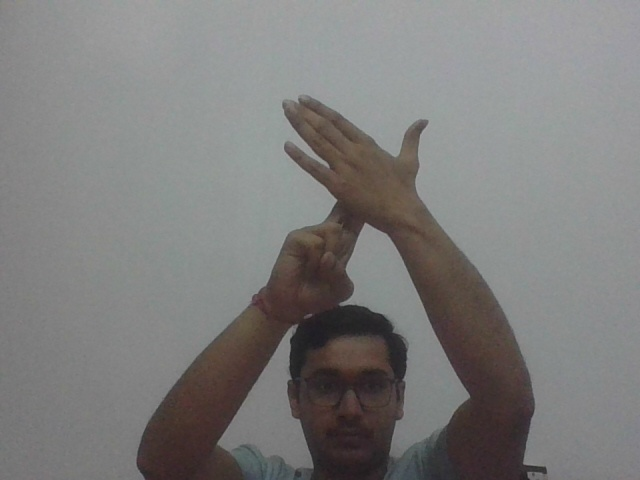N: (262, 85, 426, 307)
